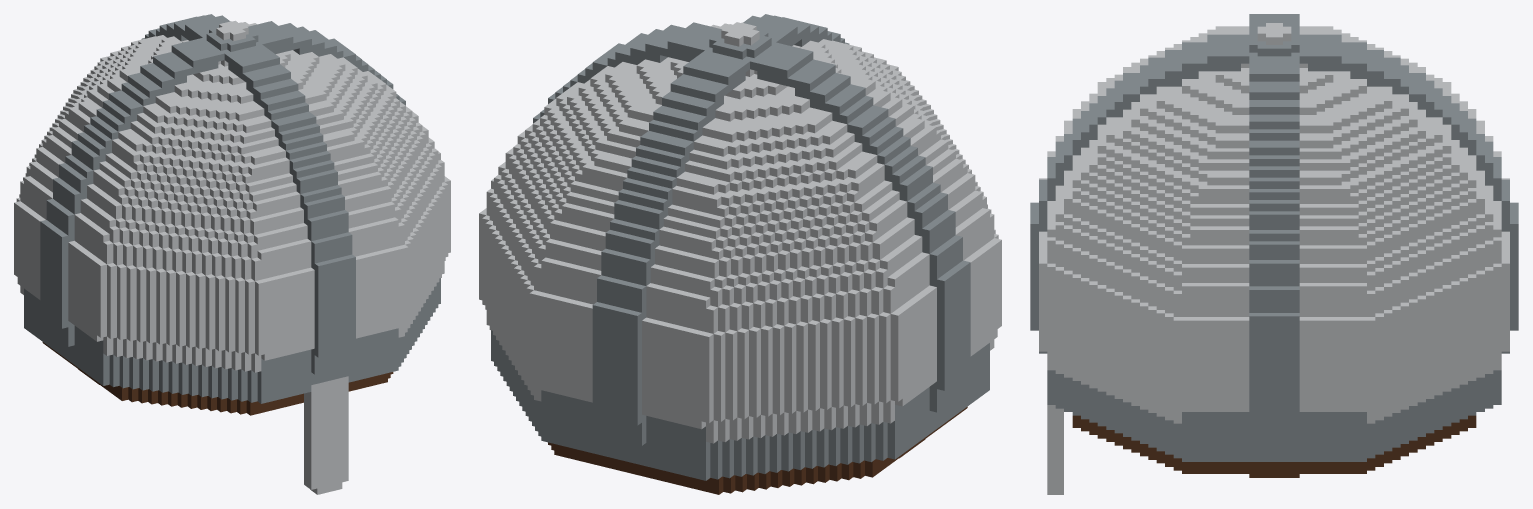
File: lc_helmet_nasal.glb
3 renders of one model, left to right at view 1: azimuth 30°, elevation 25°; view 2: azimuth 150°, elevation 25°; view 3: azimuth 270°, elevation 25°, orthographic. The views are drawn at different scales.
Visible parts, largest first — view 1: lc_helmet_nasal:compound; view 2: lc_helmet_nasal:compound; view 3: lc_helmet_nasal:compound.
Boxes of the visible parts, bbox=[...] form: lc_helmet_nasal:compound: bbox=[14, 14, 450, 494]; lc_helmet_nasal:compound: bbox=[479, 14, 1001, 494]; lc_helmet_nasal:compound: bbox=[1030, 14, 1518, 494].
Bounding box in the file's own units: 0.232 × 0.24 × 0.232.
